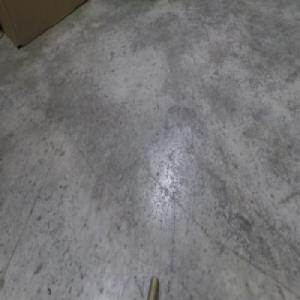Bolt: (146, 275, 158, 299)
